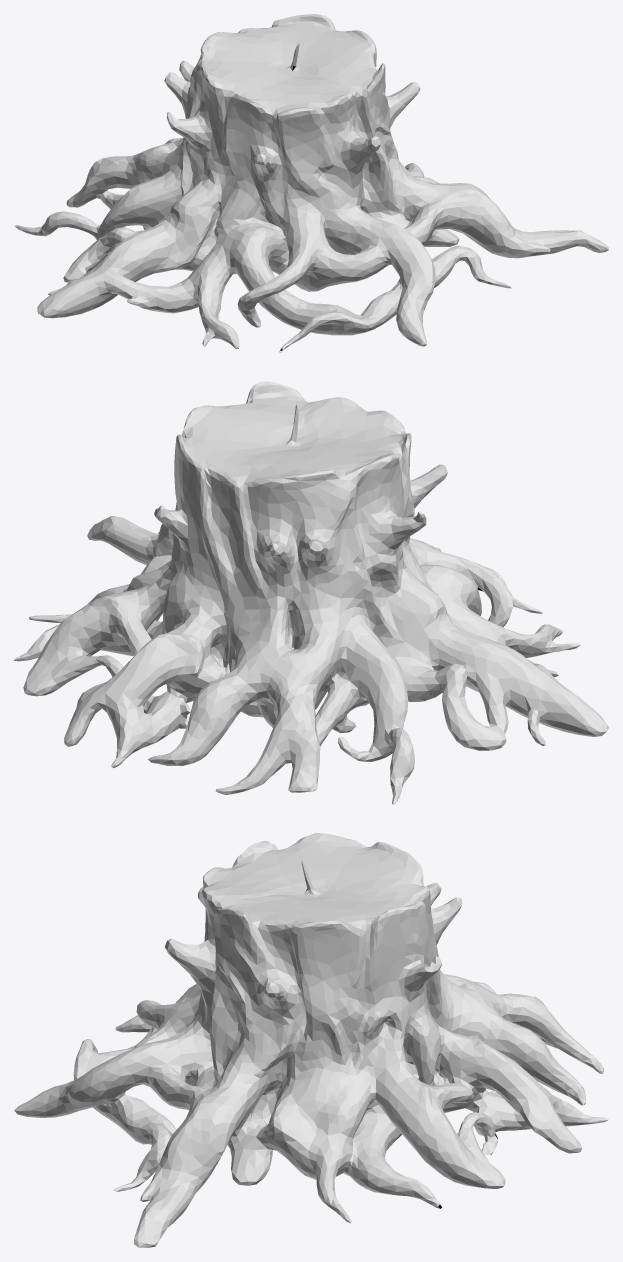
The model's file is stump01.glb.
3 views of the same model, one above another, from view 1: azimuth 30°, elevation 25°; view 2: azimuth 150°, elevation 25°; view 3: azimuth 270°, elevation 25° (orthographic). The views are drawn at different scales.
Visible parts, largest first — view 1: Low; view 2: Low; view 3: Low.
Part boxes in pixels (x1,y1,x2,y2): Low: (14, 14, 608, 352); Low: (14, 381, 608, 804); Low: (14, 833, 608, 1247).
Size of the model in its own units: 1.96 by 0.8271 by 1.74.
Materials: 1 (1 with a texture image).
